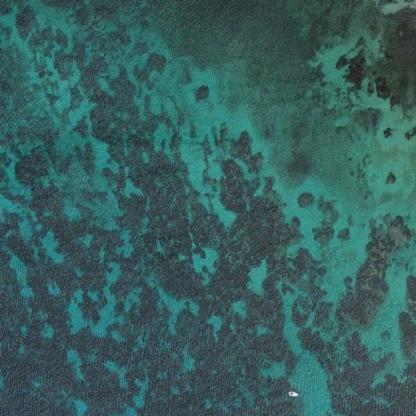ship: (282, 385, 302, 401)
